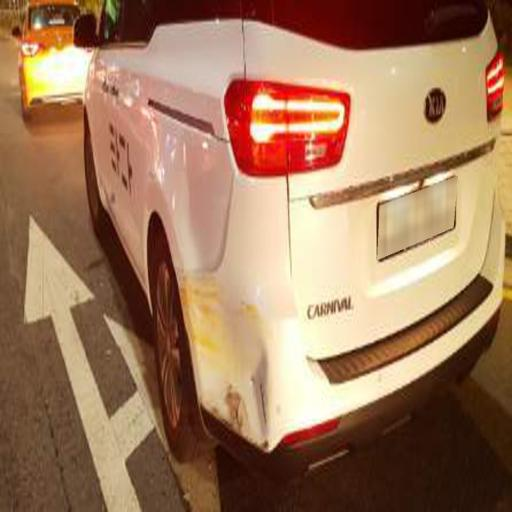dent: (173, 225, 286, 451)
